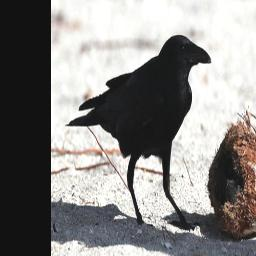Crow: (64, 34, 212, 233)
